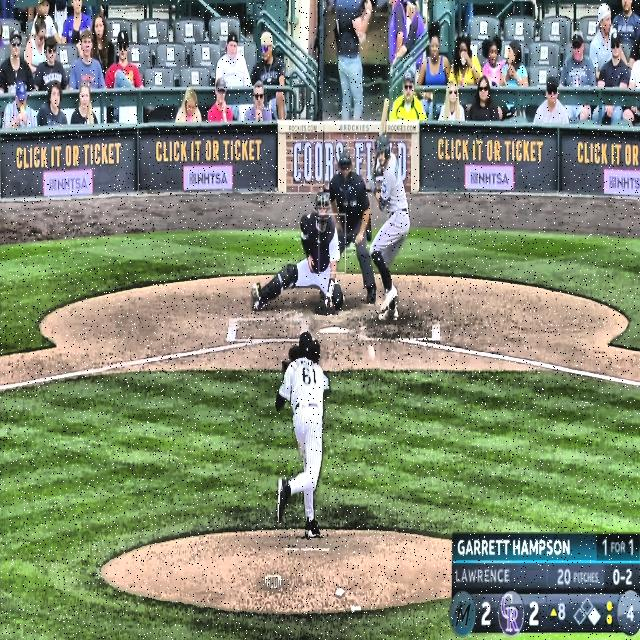baseball: (368, 343, 376, 360)
